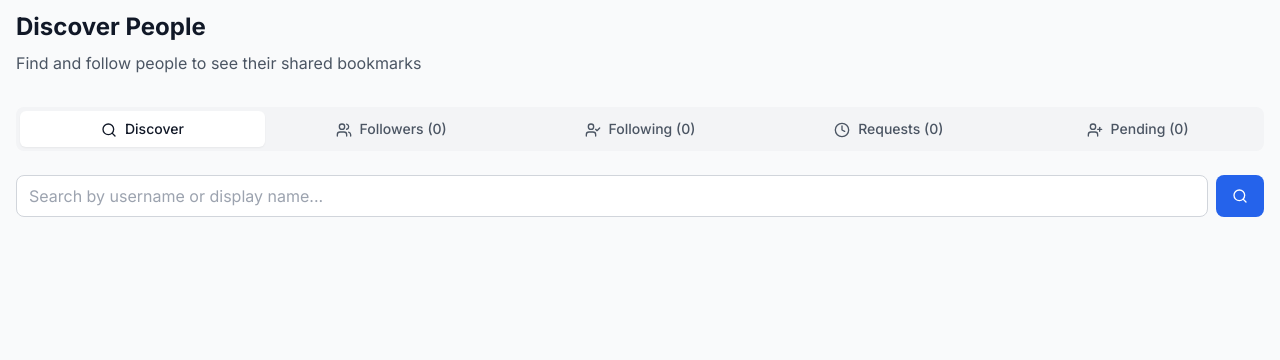
Test: Discover Page › Search Functionality › should search users when search button is clicked
This screenshot has width=1280, height=360.
In the field with placeholder "Search by username or display name...": (612, 196) [16,175,1208,217], type "testuser"
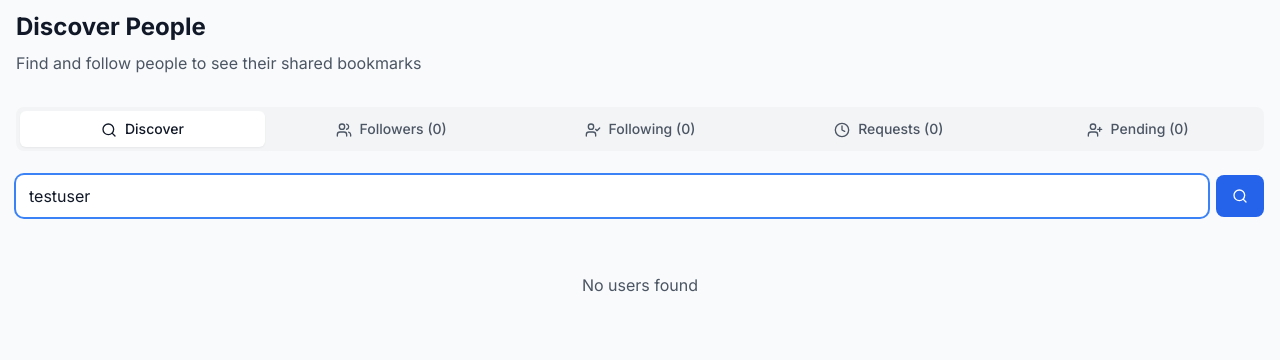
Click the button named "search": (1240, 196) [1216,175,1264,217]
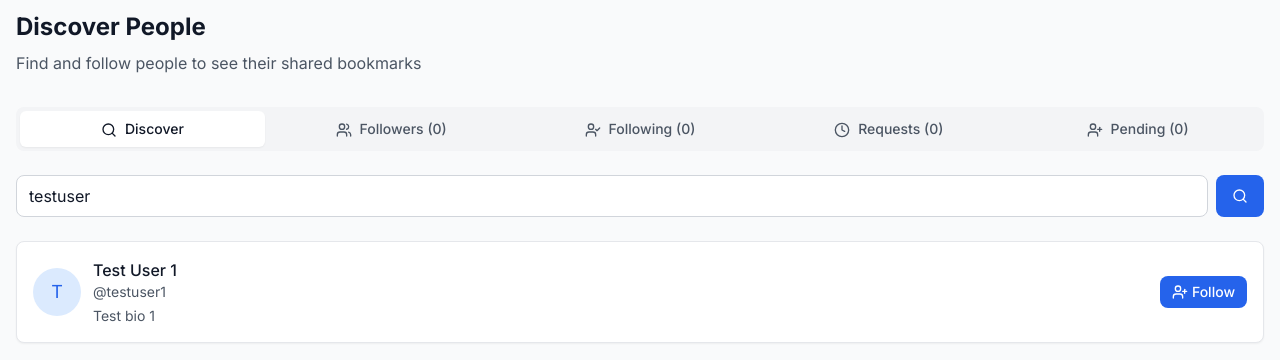
Now the heading "Test User 1" is shown, box [93,260,177,280]
Now the text "@testuser1" is shown, box [93,283,166,300]
Now the text "Test bio 1" is shown, box [93,307,155,324]
